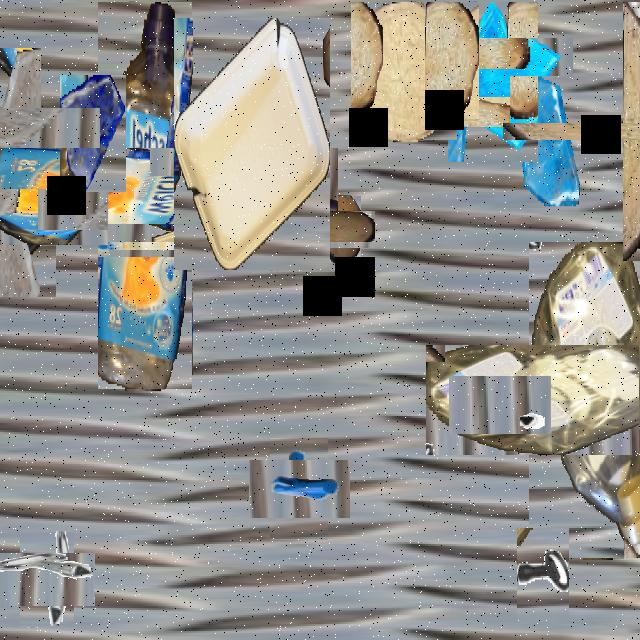glass: (430, 19, 556, 144), (510, 76, 582, 205), (60, 75, 126, 192), (0, 77, 70, 178)
metal: (109, 186, 193, 269), (460, 365, 540, 446), (259, 449, 339, 529), (10, 542, 84, 617), (517, 528, 569, 620), (22, 178, 62, 249)
plastic: (25, 75, 265, 316), (174, 18, 330, 270), (477, 293, 640, 506), (0, 163, 82, 271)
wood: (351, 2, 457, 140), (562, 62, 640, 200), (425, 2, 479, 119), (316, 203, 368, 256)
